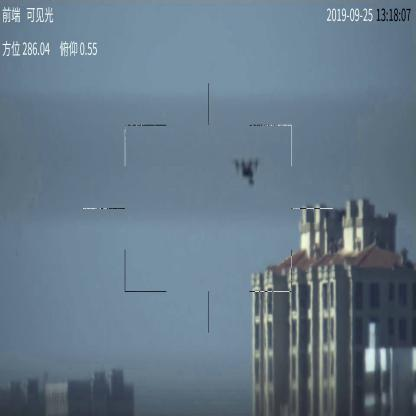uav: (235, 156, 261, 186)
